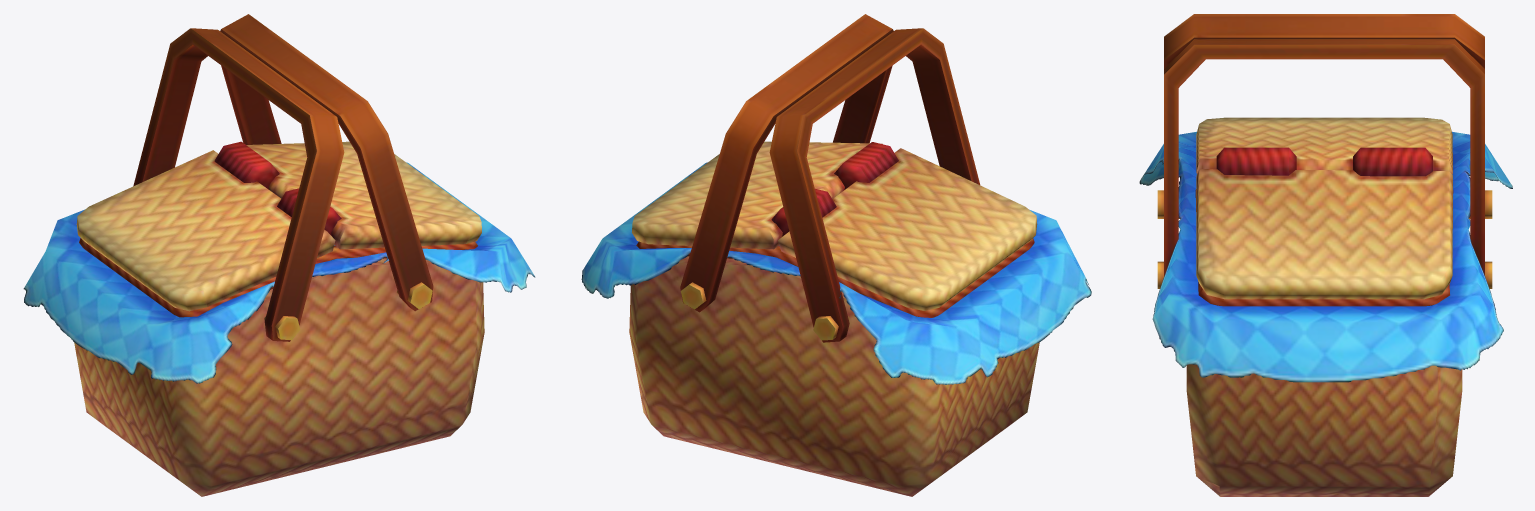
File: SE_Basket_03.fbx
3 views of the same model, side by side, from view 1: azimuth 30°, elevation 25°; view 2: azimuth 150°, elevation 25°; view 3: azimuth 270°, elevation 25° (orthographic). The views are drawn at different scales.
Visible parts, largest first — view 1: SE_Basket_03; view 2: SE_Basket_03; view 3: SE_Basket_03.
Boxes of the visible parts, x1,y1,x2,y2 form: SE_Basket_03: [23, 14, 535, 496]; SE_Basket_03: [581, 14, 1091, 496]; SE_Basket_03: [1139, 14, 1512, 496].
Bounding box in the file's own units: 2.73 × 2.32 × 2.06.
